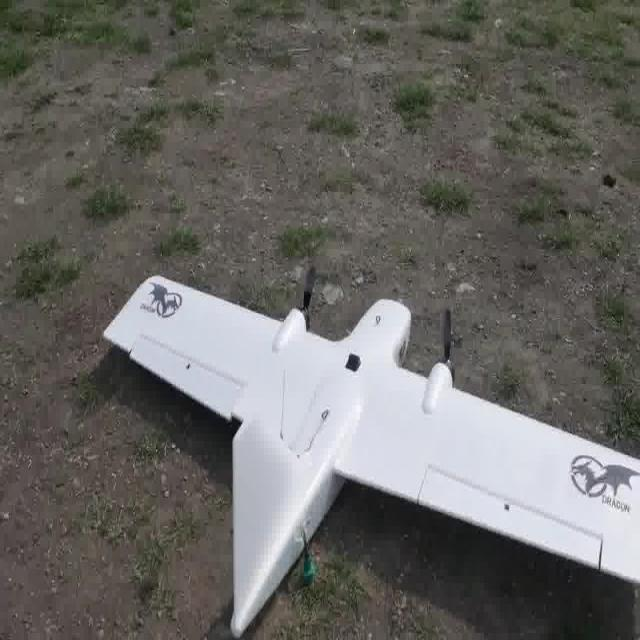iha: (103, 255, 639, 640)
